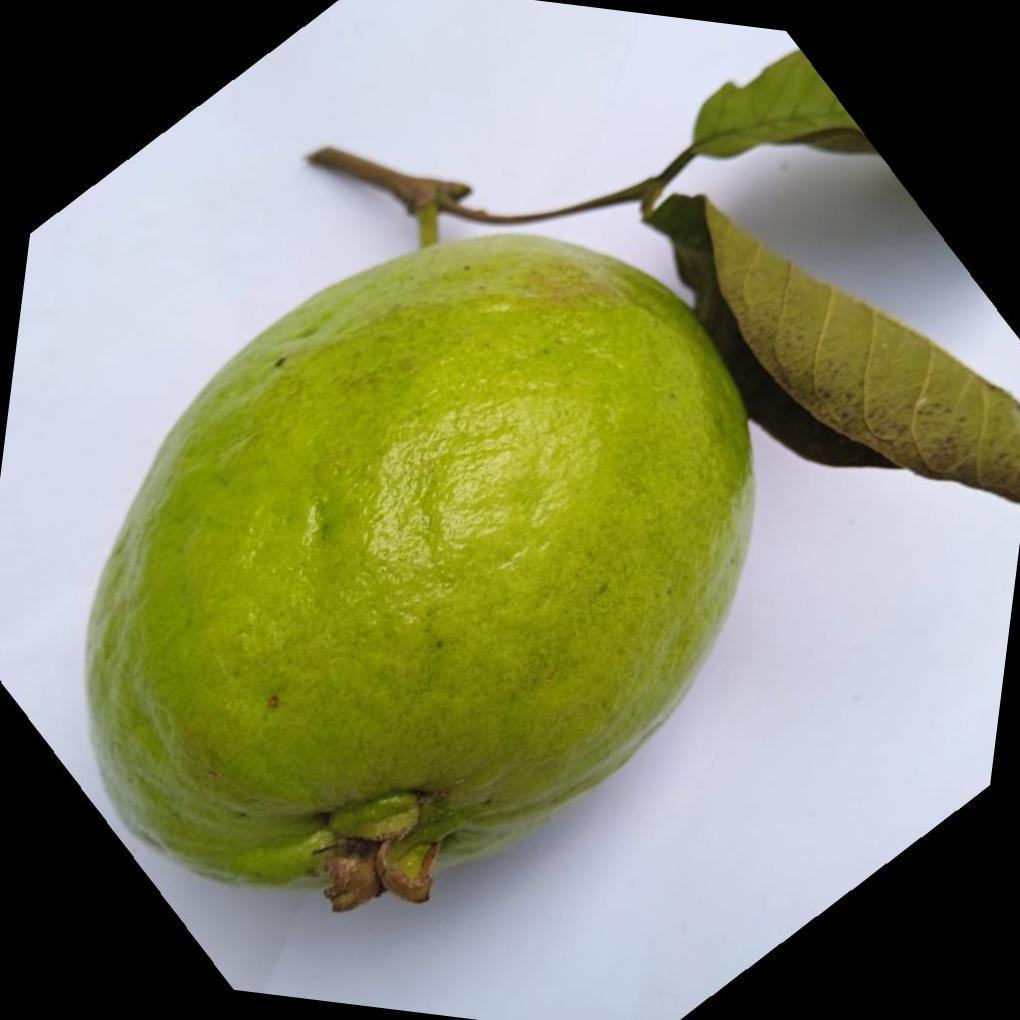FreshGuava: (86, 206, 760, 915)
